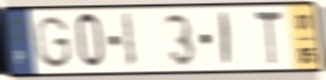0: (73, 10, 108, 73)
3: (163, 12, 198, 68)
G: (32, 14, 74, 71)
I: (120, 11, 138, 72), (219, 10, 232, 69)
T: (252, 8, 285, 68)
